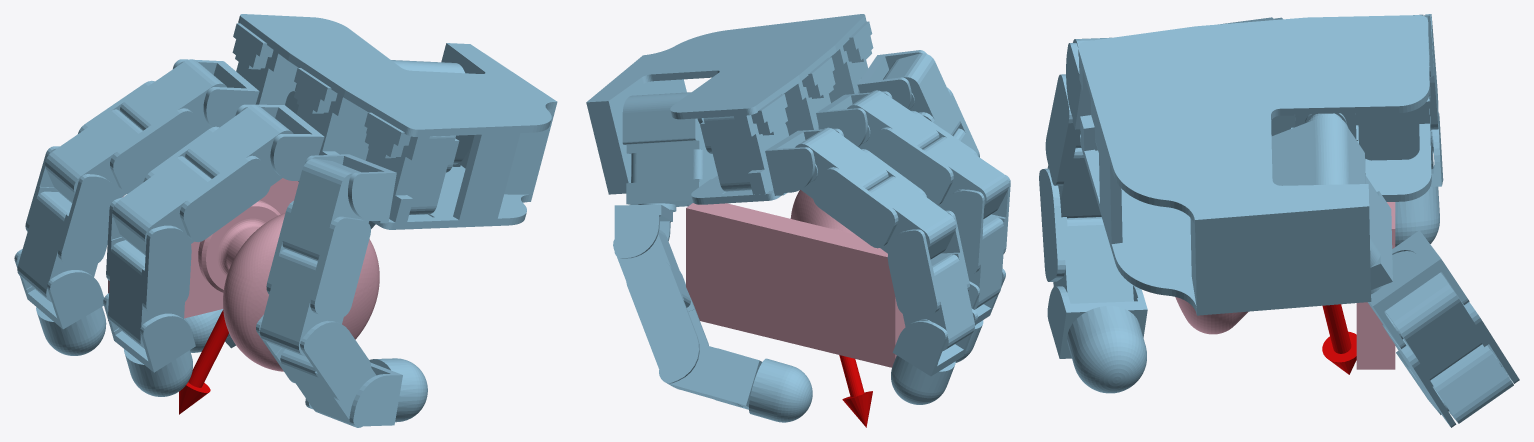
The picture shows the model from 3 angles, left to right: view 1: azimuth 30°, elevation 25°; view 2: azimuth 150°, elevation 25°; view 3: azimuth 270°, elevation 25°; orthographic projection. The views are drawn at different scales.
Parts seen in each view (by area): view 1: world, door_knob.stl; view 2: world, door_knob.stl; view 3: world, door_knob.stl.
Part boxes in pixels (box(x1,y1,x2,y2)): world: box(14, 14, 557, 427); door_knob.stl: box(108, 178, 379, 371); world: box(586, 14, 1010, 427); door_knob.stl: box(686, 190, 905, 367); world: box(1039, 14, 1519, 427); door_knob.stl: box(1175, 202, 1395, 369).
Bounding box in the file's own units: 0.1903 × 0.1468 × 0.1552.
